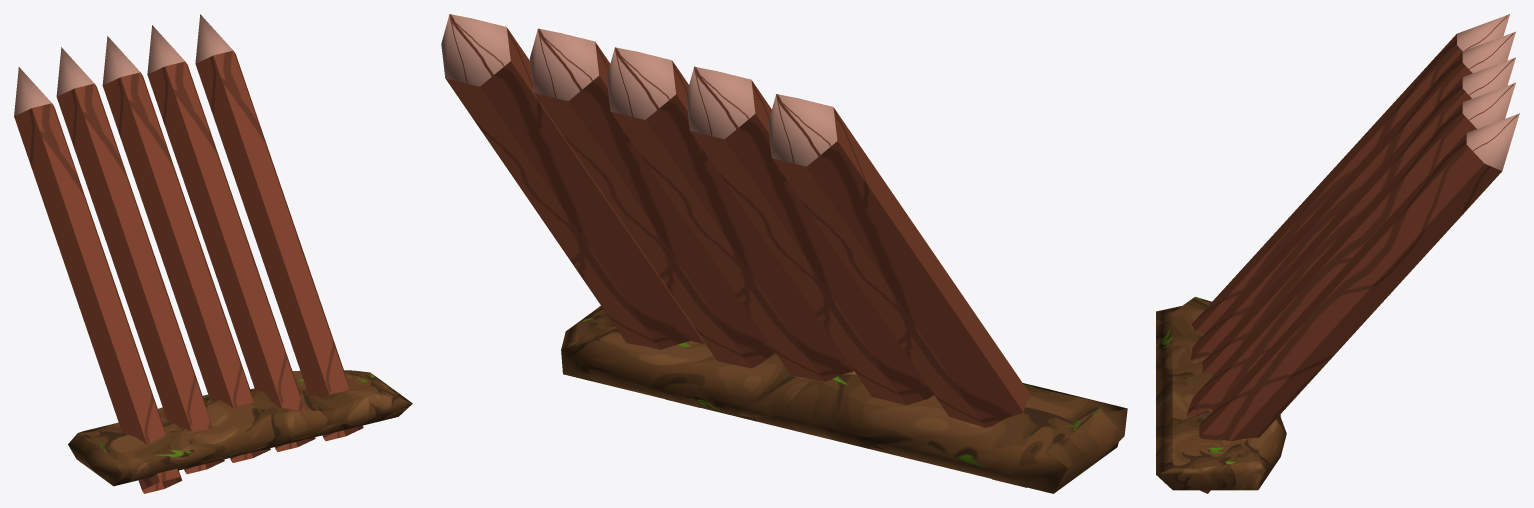
File: Pike.fbx
The picture shows the model from 3 angles, left to right: view 1: azimuth 30°, elevation 25°; view 2: azimuth 150°, elevation 25°; view 3: azimuth 270°, elevation 25°; orthographic projection. The views are drawn at different scales.
Parts seen in each view (by area): view 1: polySurface1; view 2: polySurface1; view 3: polySurface1.
Boxes of the visible parts, box(x1,y1,x2,y2) form: polySurface1: box(14, 14, 412, 493); polySurface1: box(441, 14, 1127, 493); polySurface1: box(1156, 14, 1519, 493).
Size of the model in its own units: 0.9677 by 1 by 0.8657.
1 material, 1 textured.
